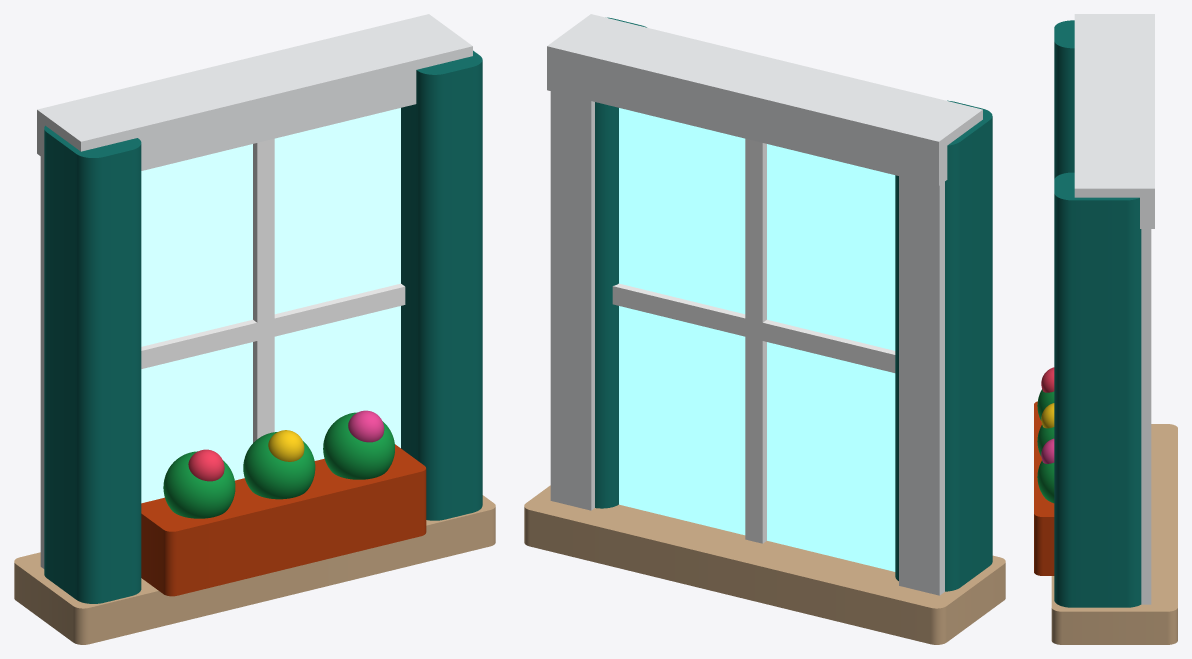
The model's file is window_frame.glb.
3 views of the same model, side by side, from view 1: azimuth 30°, elevation 25°; view 2: azimuth 150°, elevation 25°; view 3: azimuth 270°, elevation 25° (orthographic). The views are drawn at different scales.
Parts seen in each view (by area): view 1: win_glass, curtain_L, curtain_R, win_top, flower_box, win_sill, mull_v, mull_h, fbush_1, fbush_0, fbush_2, jamb_L (+3 smaller); view 2: win_glass, win_top, win_sill, curtain_L, jamb_L, jamb_R, curtain_R, mull_v, mull_h; view 3: curtain_R, win_top, win_sill, jamb_R, curtain_L, flower_box, fbush_2, fbush_0, fbush_1, bloom_0, bloom_1, bloom_2.
Part boxes in pixels (x1,y1,x2,y2): win_glass: [141, 108, 400, 503]; curtain_L: [44, 125, 141, 603]; curtain_R: [401, 50, 482, 520]; win_top: [37, 14, 472, 170]; flower_box: [141, 444, 426, 596]; win_sill: [14, 495, 495, 644]; mull_v: [253, 138, 274, 442]; mull_h: [141, 283, 405, 368]; fbush_1: [243, 432, 315, 499]; fbush_0: [163, 451, 235, 518]; fbush_2: [323, 412, 394, 479]; jamb_L: [40, 156, 44, 568]; win_glass: [619, 108, 895, 571]; win_top: [547, 14, 982, 185]; win_sill: [524, 485, 1005, 644]; curtain_L: [895, 100, 992, 591]; jamb_L: [899, 176, 944, 595]; jamb_R: [550, 91, 594, 510]; curtain_R: [595, 17, 646, 508]; mull_v: [745, 138, 766, 543]; mull_h: [612, 283, 895, 372]; curtain_R: [1054, 172, 1141, 607]; win_top: [1074, 14, 1154, 228]; win_sill: [1051, 424, 1177, 644]; jamb_R: [1141, 229, 1151, 604]; curtain_L: [1054, 20, 1074, 178]; flower_box: [1034, 401, 1054, 575]; fbush_2: [1037, 460, 1054, 503]; fbush_0: [1037, 389, 1054, 420]; fbush_1: [1037, 425, 1054, 456]; bloom_0: [1041, 367, 1054, 392]; bloom_1: [1041, 403, 1054, 428]; bloom_2: [1041, 438, 1054, 463].
Size of the model in its own units: 0.58 by 0.648 by 0.188.
